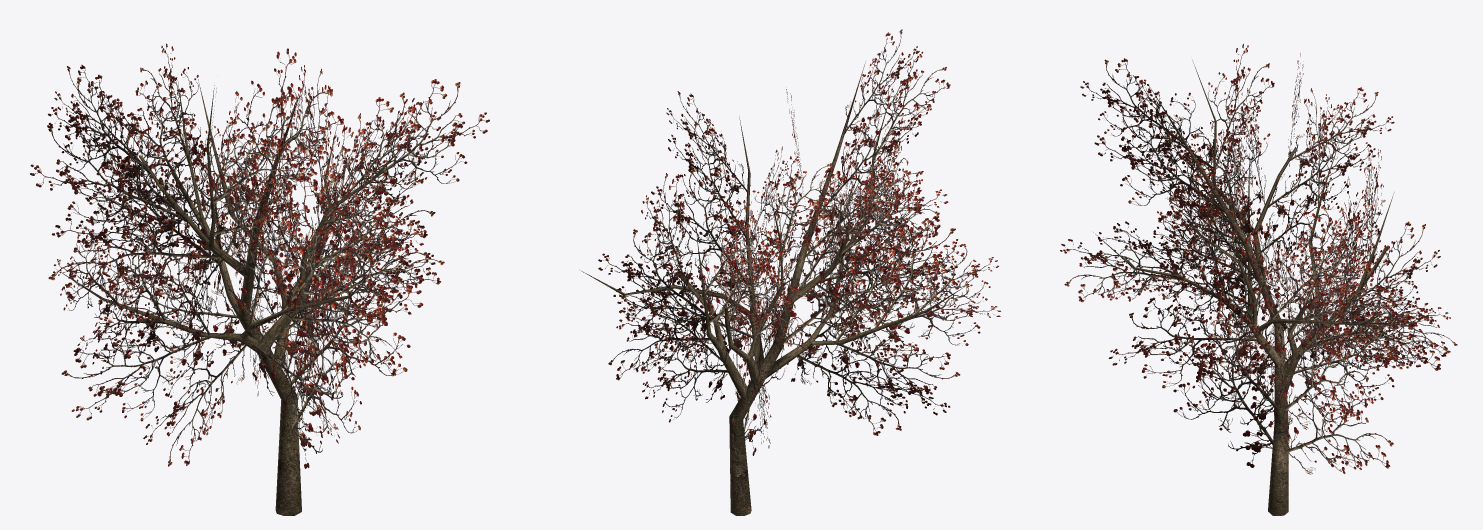
3 views of the same model, side by side, from view 1: azimuth 30°, elevation 25°; view 2: azimuth 150°, elevation 25°; view 3: azimuth 270°, elevation 25° (orthographic). The views are drawn at different scales.
Parts seen in each view (by area): view 1: 516; view 2: 516; view 3: 516.
Boxes of the visible parts, bbox=[...] form: 516: bbox=[30, 43, 489, 515]; 516: bbox=[581, 29, 1000, 515]; 516: bbox=[1060, 44, 1457, 515].
Size of the model in its own units: 14.69 by 15.91 by 13.25.
